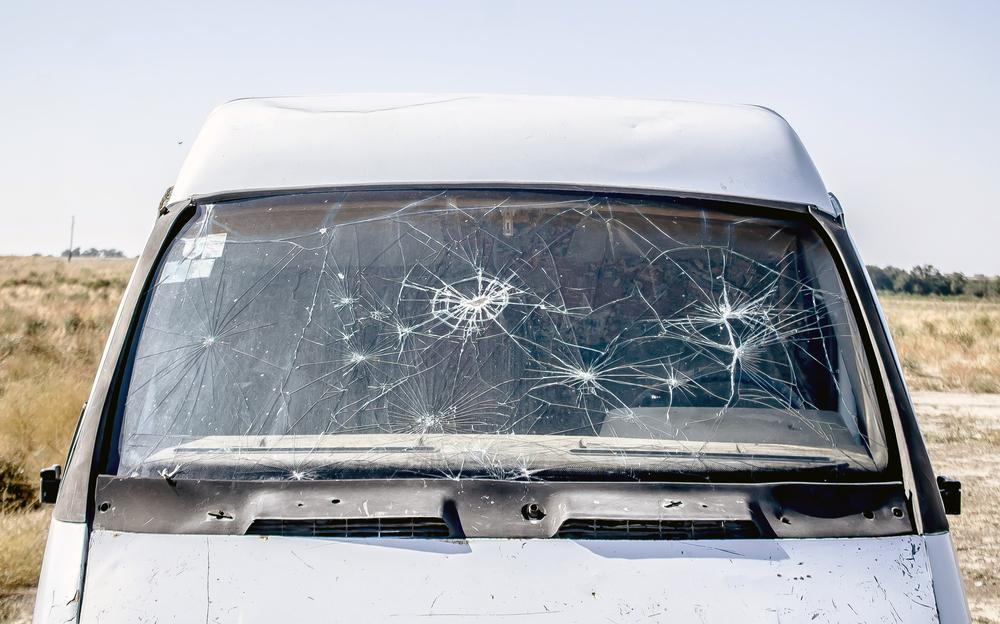dent: (261, 93, 470, 111)
glass shatter: (114, 190, 887, 482)
